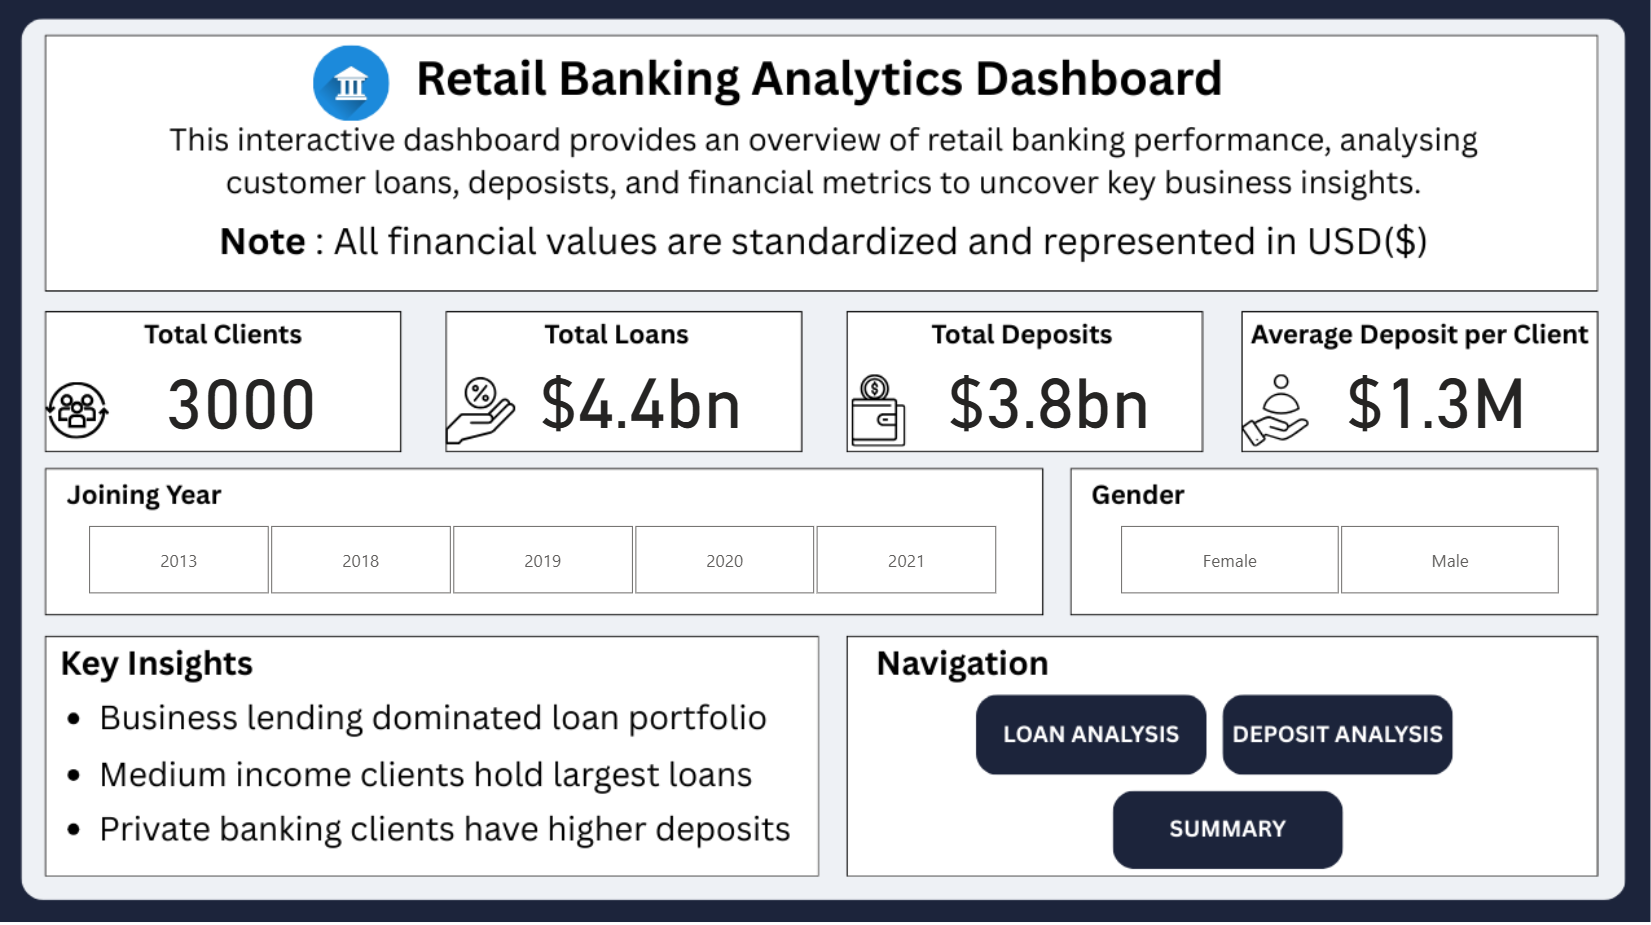

The dashboard page shown, as its layout file describes it:
{"tool":"powerbi","page":{"name":"Home ","canvas":[1280,720],"ordinal":0},"visuals":[{"type":"card","fields":{"Values":["CountNonNull(banking_case banking.Name)"]},"box":[105.4,275.8,170.3,69.5],"z":0},{"type":"card","fields":{"Values":["Measure.Total Loan"]},"box":[391.7,267.7,215.5,84.6],"z":1000},{"type":"card","fields":{"Values":["Measure.Total Deposit"]},"box":[706.8,267.7,215.5,84.6],"z":2000},{"type":"slicer","fields":{"Values":["banking_case banking.Year of Joining"]},"box":[47.5,404.4,750.9,66],"z":3000},{"type":"slicer","fields":{"Values":["banking_case banking.GenderId"]},"box":[844.7,404.4,388.2,66],"z":4000},{"type":"actionButton","box":[750.9,538.8,190,66],"z":5000},{"type":"actionButton","box":[949,540,180.8,66],"z":6000},{"type":"actionButton","box":[863.3,615.3,179.6,61.4],"z":7000},{"type":"card","fields":{"Values":["Measure.Average deposit per client"]},"box":[1005.8,267.7,215.5,84.6],"z":8000}]}

Visuals, with their boxes in screenshot pixels (x1, y1, x2, y2), scaled from the page's 1280x720 canvas onto the 1651x925 screenshot:
card - CountNonNull(banking_case banking.Name): x1=136 y1=354 x2=356 y2=444
card - Measure.Total Loan: x1=505 y1=344 x2=783 y2=453
card - Measure.Total Deposit: x1=912 y1=344 x2=1190 y2=453
slicer - banking_case banking.Year of Joining: x1=61 y1=520 x2=1030 y2=604
slicer - banking_case banking.GenderId: x1=1090 y1=520 x2=1590 y2=604
actionButton: x1=969 y1=692 x2=1214 y2=777
actionButton: x1=1224 y1=694 x2=1457 y2=779
actionButton: x1=1114 y1=790 x2=1345 y2=869
card - Measure.Average deposit per client: x1=1297 y1=344 x2=1575 y2=453
